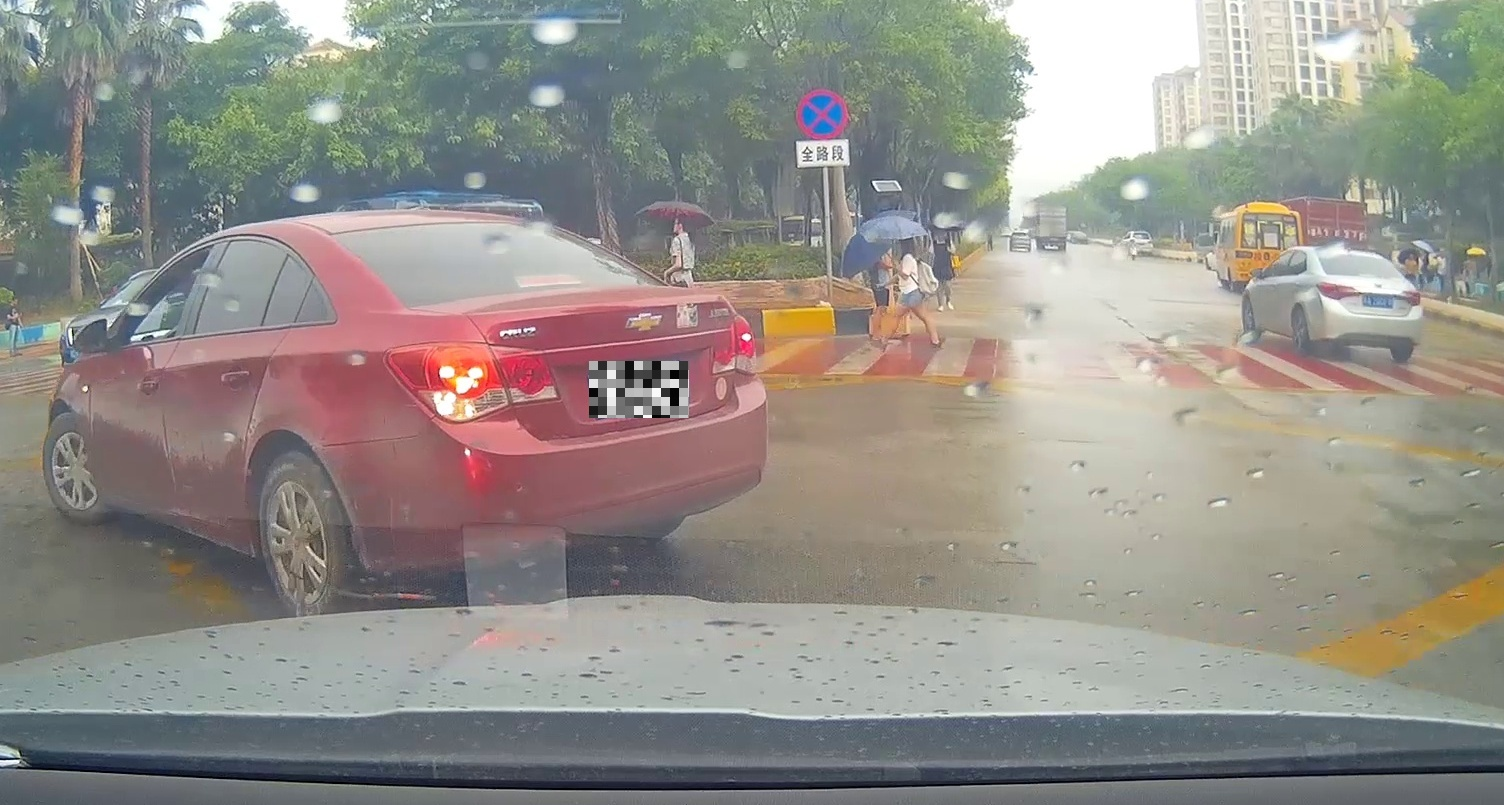L_light: (385, 342, 557, 424), (1316, 282, 1361, 300)
R_light: (712, 314, 758, 375), (1397, 291, 1420, 304)
T_light: (514, 273, 579, 287), (1351, 255, 1368, 259)
day-left: (325, 213, 773, 612)
day-no: (1311, 247, 1421, 362)
plate_1: (589, 361, 689, 418)
